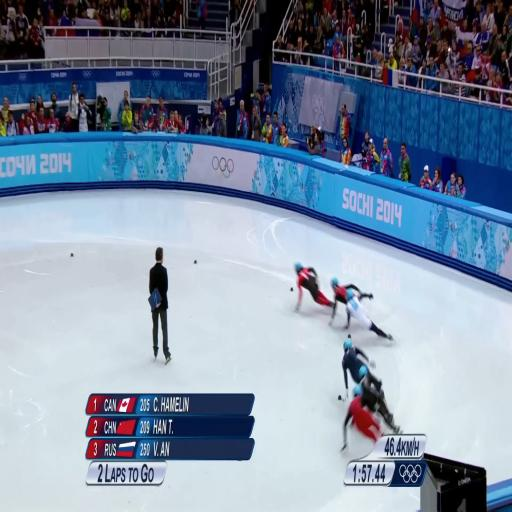Skater: (337, 287, 393, 340), (342, 385, 383, 450), (340, 335, 381, 400), (360, 367, 400, 433), (330, 278, 373, 325), (295, 263, 333, 311)
